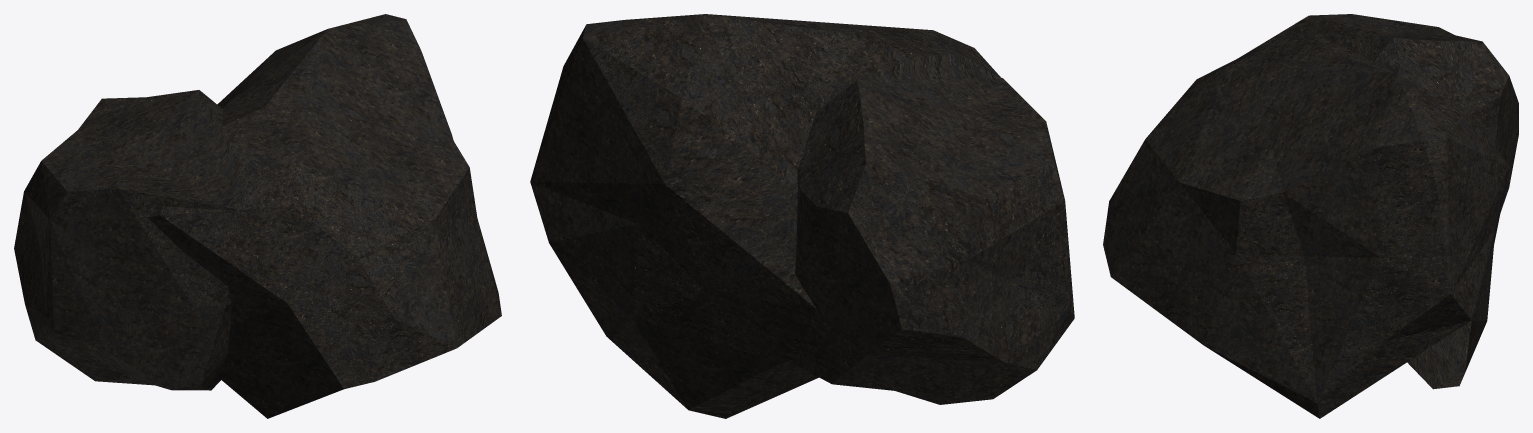
Rendered from rocher02.gltf.
The picture shows the model from 3 angles, left to right: view 1: azimuth 30°, elevation 25°; view 2: azimuth 150°, elevation 25°; view 3: azimuth 270°, elevation 25°; orthographic projection. The views are drawn at different scales.
Visible parts, largest first — view 1: rock01; view 2: rock01; view 3: rock01.
Part boxes in pixels (x1,y1,x2,y2): rock01: (14, 14, 501, 418); rock01: (530, 14, 1074, 418); rock01: (1103, 14, 1518, 418).
Bounding box in the file's own units: 14.15 × 10.45 × 11.86.
Materials: 1 (1 with a texture image).
